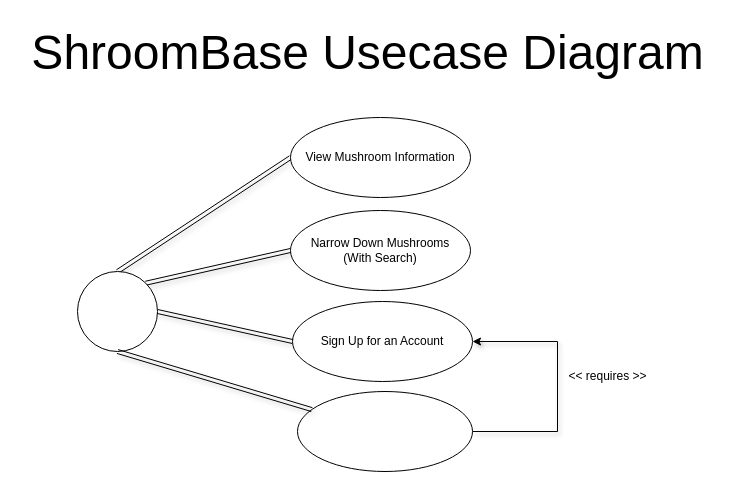
Image size: 734x489. Some labels were removed from this diagram. Each missing label, with the centre of its shape:
"Actor (User)" belongs at (117,311).
"Favourite a Mushroom" belongs at (384,431).
